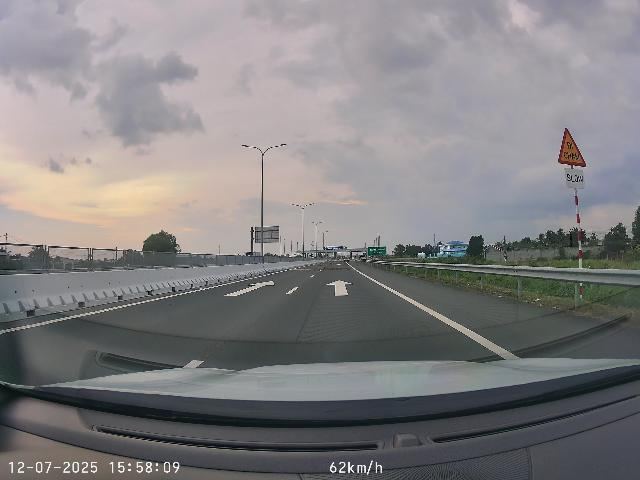245-di-cham: (558, 127, 587, 167)
